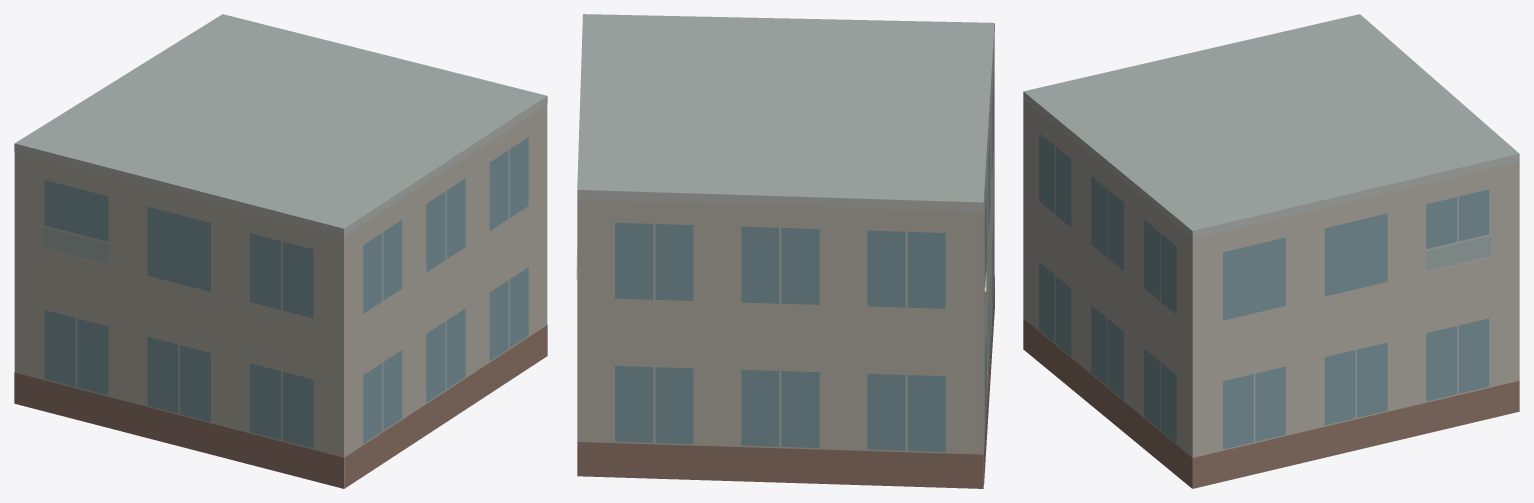
Rendered from survey-upis-33000158.glb.
3 renders of one model, left to right at view 1: azimuth 30°, elevation 25°; view 2: azimuth 150°, elevation 25°; view 3: azimuth 270°, elevation 25°, orthographic. The views are drawn at different scales.
Parts seen in each view (by area): view 1: survey-upis-33000158.tmp; view 2: survey-upis-33000158.tmp; view 3: survey-upis-33000158.tmp.
Part boxes in pixels (x1=…): survey-upis-33000158.tmp: x1=14, y1=14, x2=547, y2=488; survey-upis-33000158.tmp: x1=576, y1=14, x2=994, y2=488; survey-upis-33000158.tmp: x1=1023, y1=14, x2=1519, y2=488.
Size of the model in its own units: 14.26 by 7.9 by 13.79.
